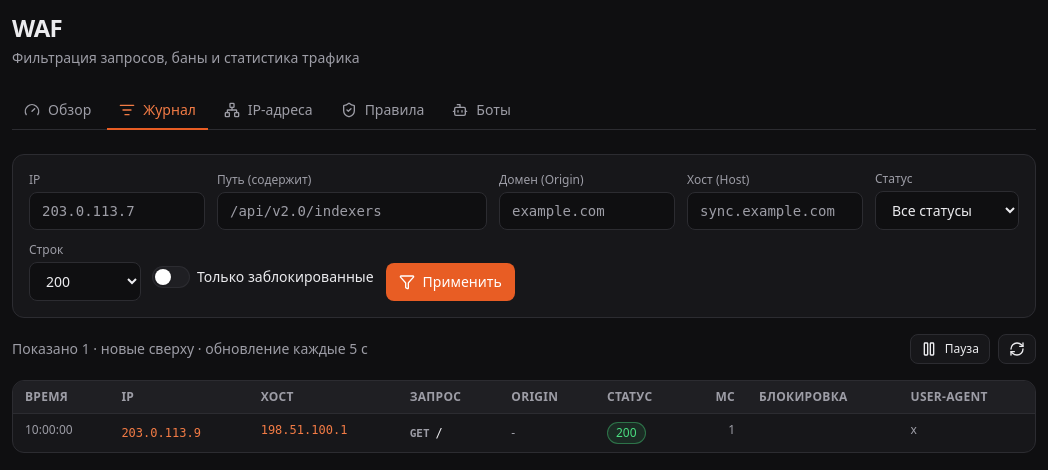
WAF log hosts › shows the host column and filters by host
Expected: the column heading "Хост" is shown, [249,381,398,414]
Click the button "198.51.100.1" at (304, 430), box [261,422,347,438]
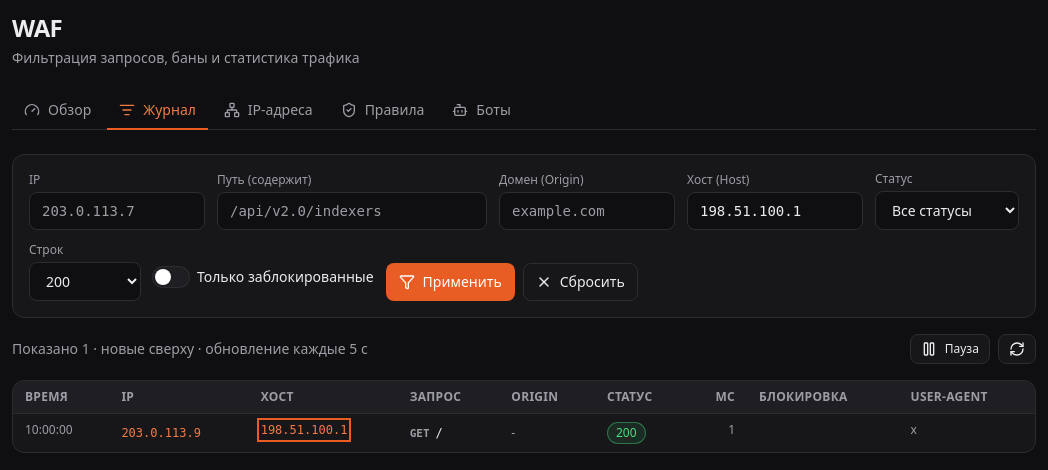
Expected: the field labelled "Хост (Host)" holds "198.51.100.1", [687,192,863,230]
